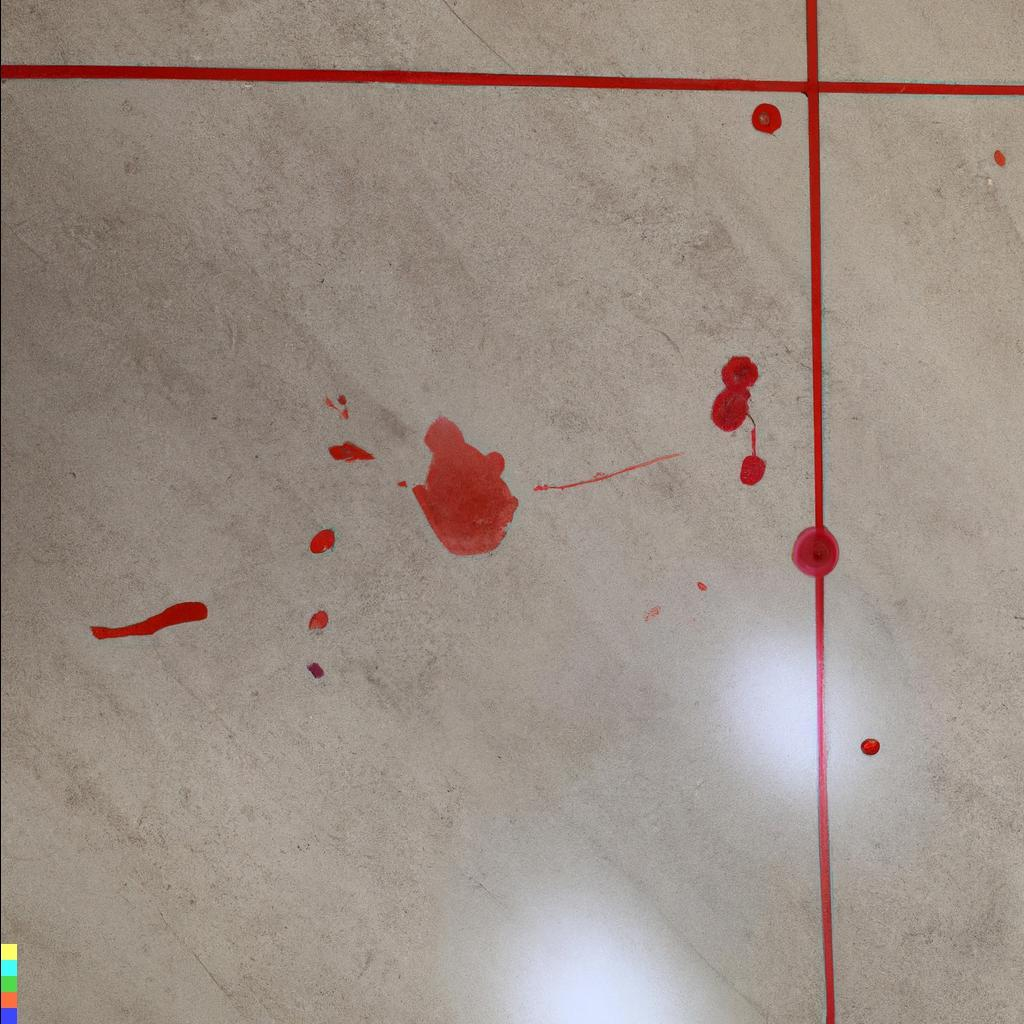Fire: (412, 416, 519, 556), (88, 601, 208, 639), (712, 355, 758, 432), (791, 526, 839, 578), (739, 426, 766, 485), (751, 103, 781, 134), (309, 529, 334, 553), (308, 610, 328, 629)
